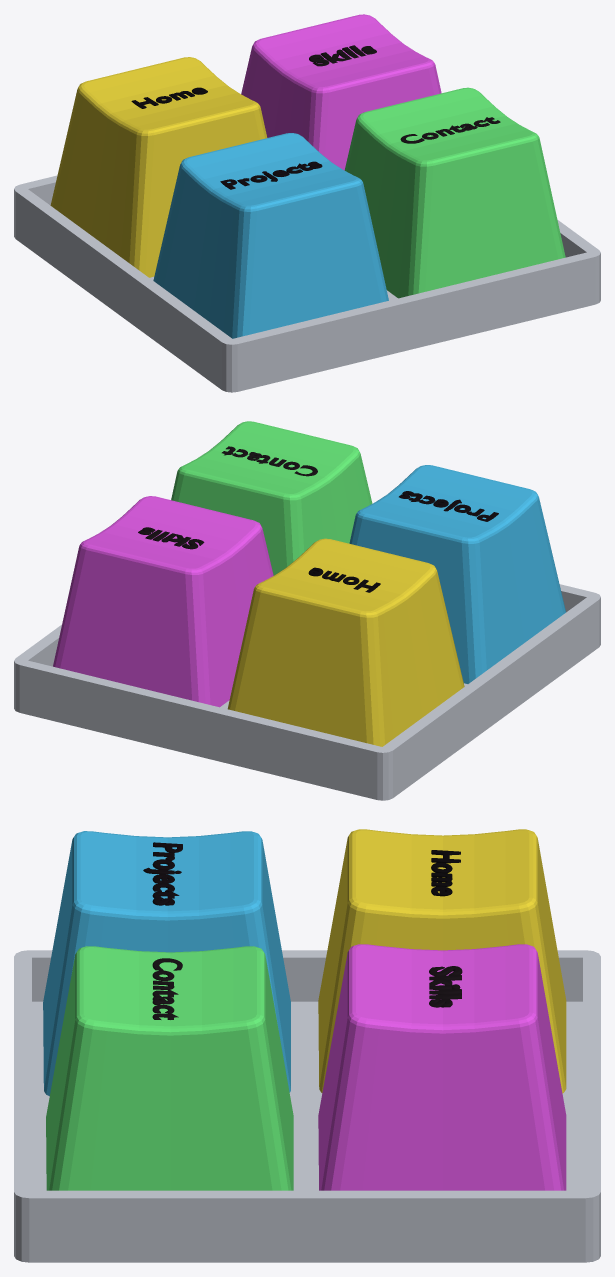
File: Keys.glb
The picture shows the model from 3 angles, top to bottom: view 1: azimuth 30°, elevation 25°; view 2: azimuth 150°, elevation 25°; view 3: azimuth 270°, elevation 25°; orthographic projection. The views are drawn at different scales.
Visible parts, largest first — view 1: Cube.004, Cube, Cube.005, Cube.002, Cube.003; view 2: Cube.002, Cube, Cube.003, Cube.004, Cube.005; view 3: Cube, Cube.003, Cube.005, Cube.002, Cube.004.
Part boxes in pixels (x1,y1,x2,y2): Cube.004: (153,133,388,338); Cube: (14,175,600,392); Cube.005: (344,87,565,298); Cube.002: (50,57,267,277); Cube.003: (241,14,441,170); Cube.002: (227,538,464,746); Cube: (14,584,600,800); Cube.003: (53,496,273,707); Cube.004: (349,465,566,683); Cube.005: (171,421,372,575); Cube: (14,950,600,1262); Cube.003: (318,944,566,1190); Cube.005: (46,946,293,1190); Cube.002: (318,829,566,1093); Cube.004: (43,831,290,1095).
Bounding box in the file's own units: 4.75 × 1.92 × 4.75.
